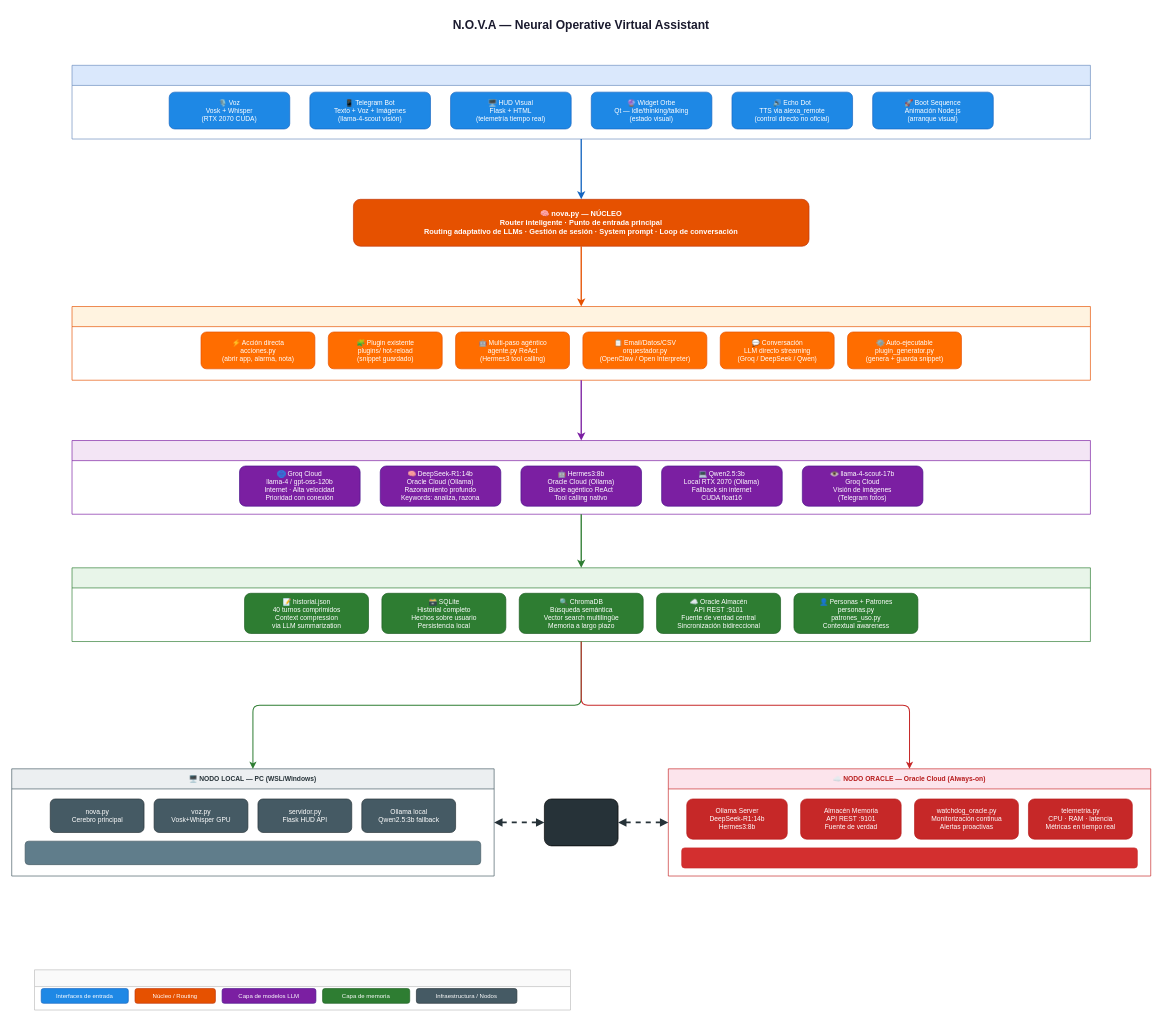
This 1162x1022 diagram has some shape labels left out. The box of each missing label's shape, as (x1, y1, x2, y2) in pixels:
CAPA DE MEMORIA — Distributed Persistent Store: (71, 567, 1090, 642)
CAPA DE MODELOS — Adaptive Model Selection: (71, 440, 1090, 514)
daemon_proactivo · daemon_inactividad · reporte_diario · tareas_autonomas: (24, 841, 481, 865)
deploy.py · consolidacion_nocturna.py · sincronización automática: (681, 847, 1137, 868)
INTERFACES: (71, 65, 1090, 139)
LEYENDA: (34, 969, 571, 1010)
ROUTING — procesar_texto(): (71, 306, 1090, 380)
🔒 Tailscale VPN Mesh 100.68.163.22 ↔ 100.111.223.84 HTTP · SSH · Ollama API: (544, 798, 618, 846)
